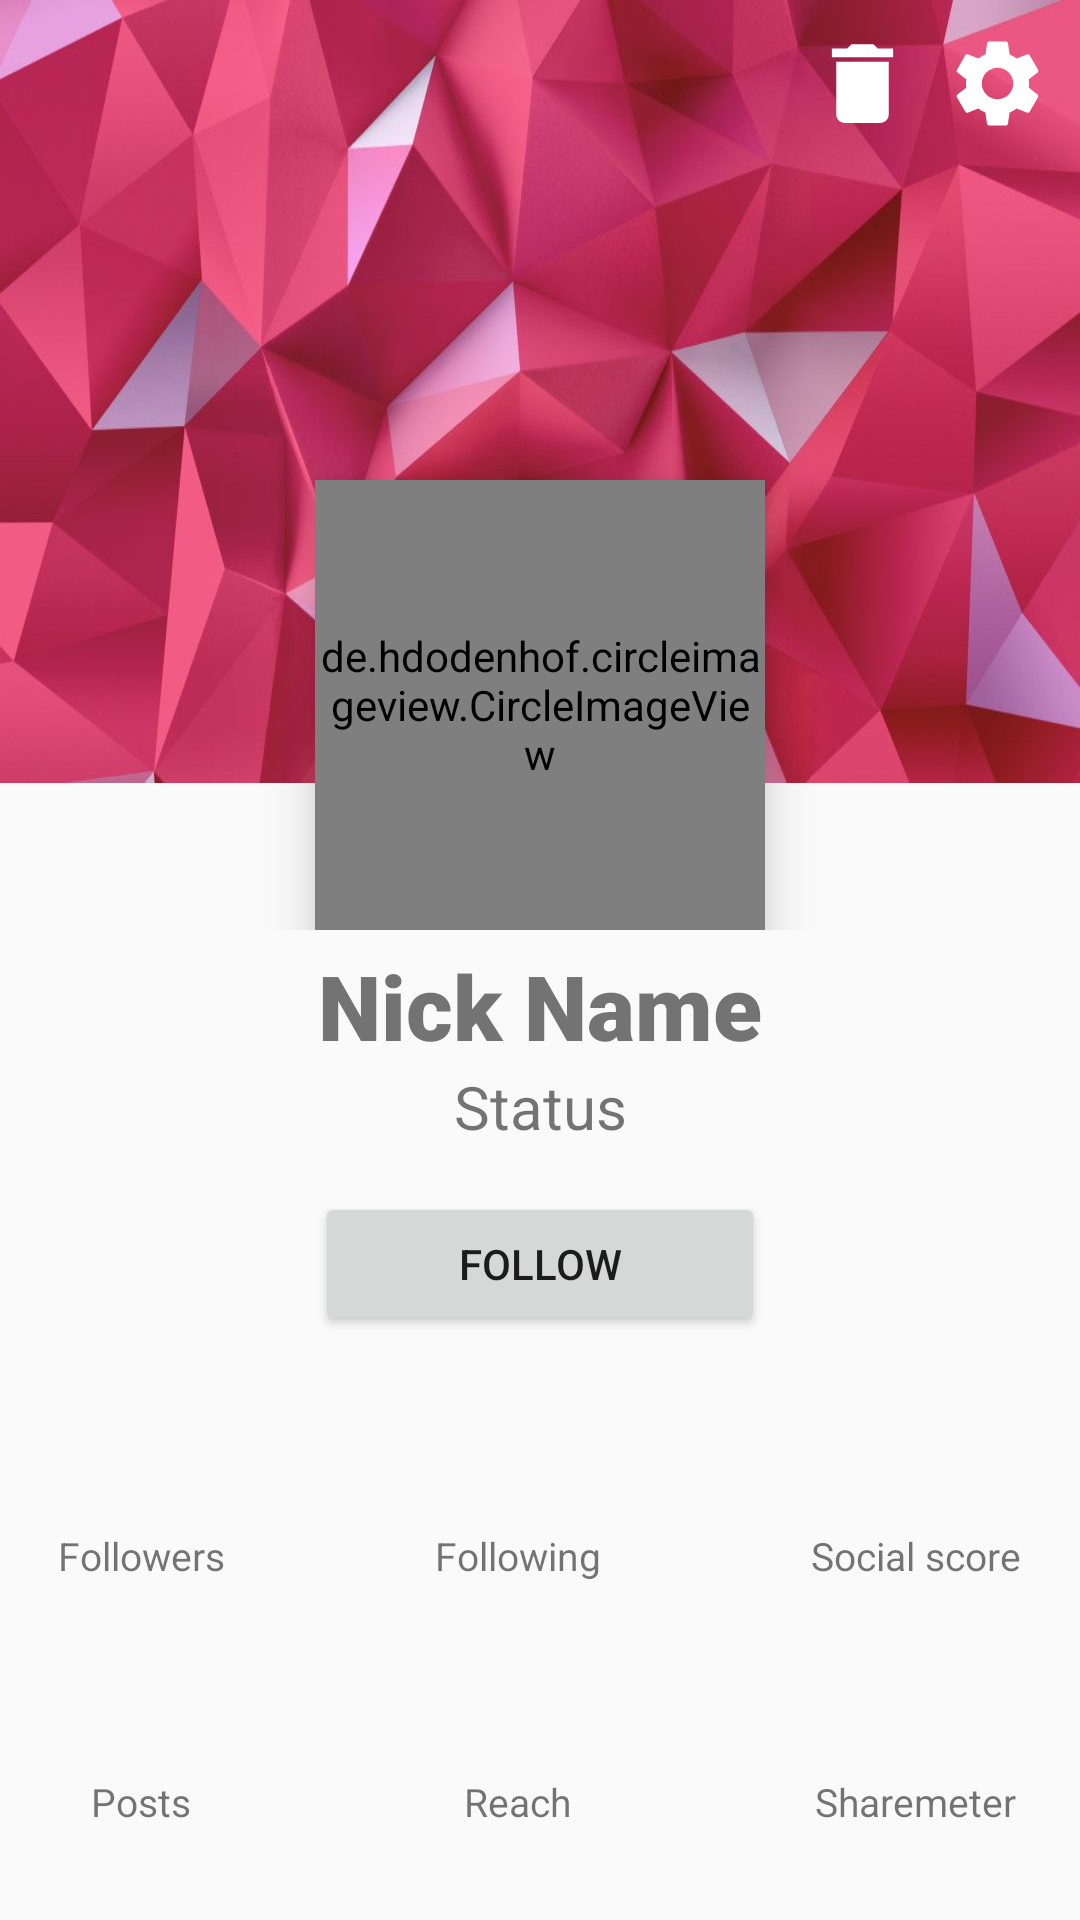

Icons on this 1080px×1920px Android screen, each with the point to tap as (x=x, y=y):
delete: (x=862, y=77)
settings: (x=997, y=83)
